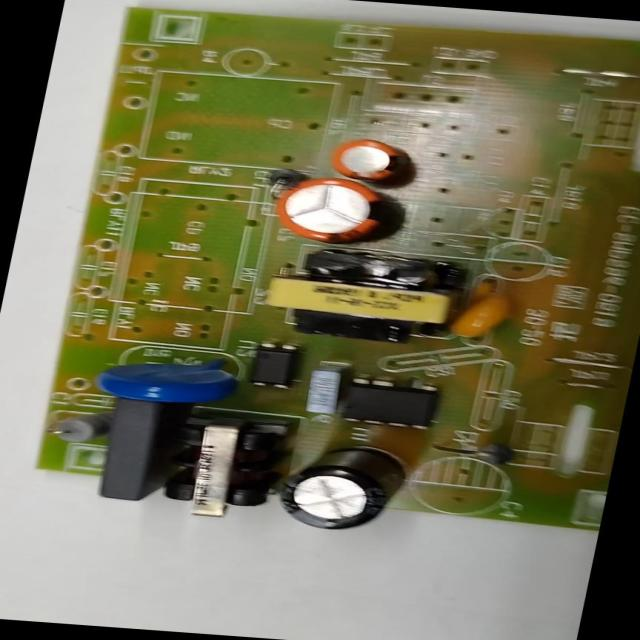Cap1: (273, 174, 386, 239)
Cap2: (331, 139, 398, 177)
Cap3: (273, 442, 406, 534)
MOSFET: (342, 377, 440, 429)
Mov: (91, 358, 239, 407)
Resistor: (42, 412, 106, 443)
Transformer: (263, 253, 462, 344), (159, 425, 282, 520)
